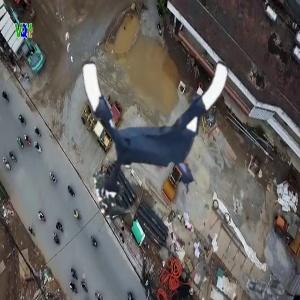drone: (83, 45, 243, 205)
